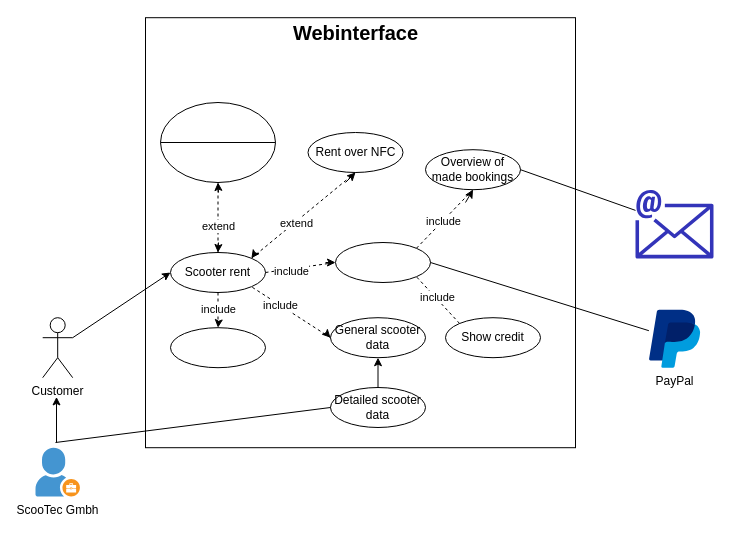
This 731x535 diagram has some shape labels left out. Here are the shapes that lost their labels. From the top down, the box of each, then its label:
(160, 102, 276, 182): locations extened Point: scooter Own
(635, 189, 713, 258): Email System
(334, 242, 430, 282): Simple Payment
(170, 327, 266, 368): Secure login
